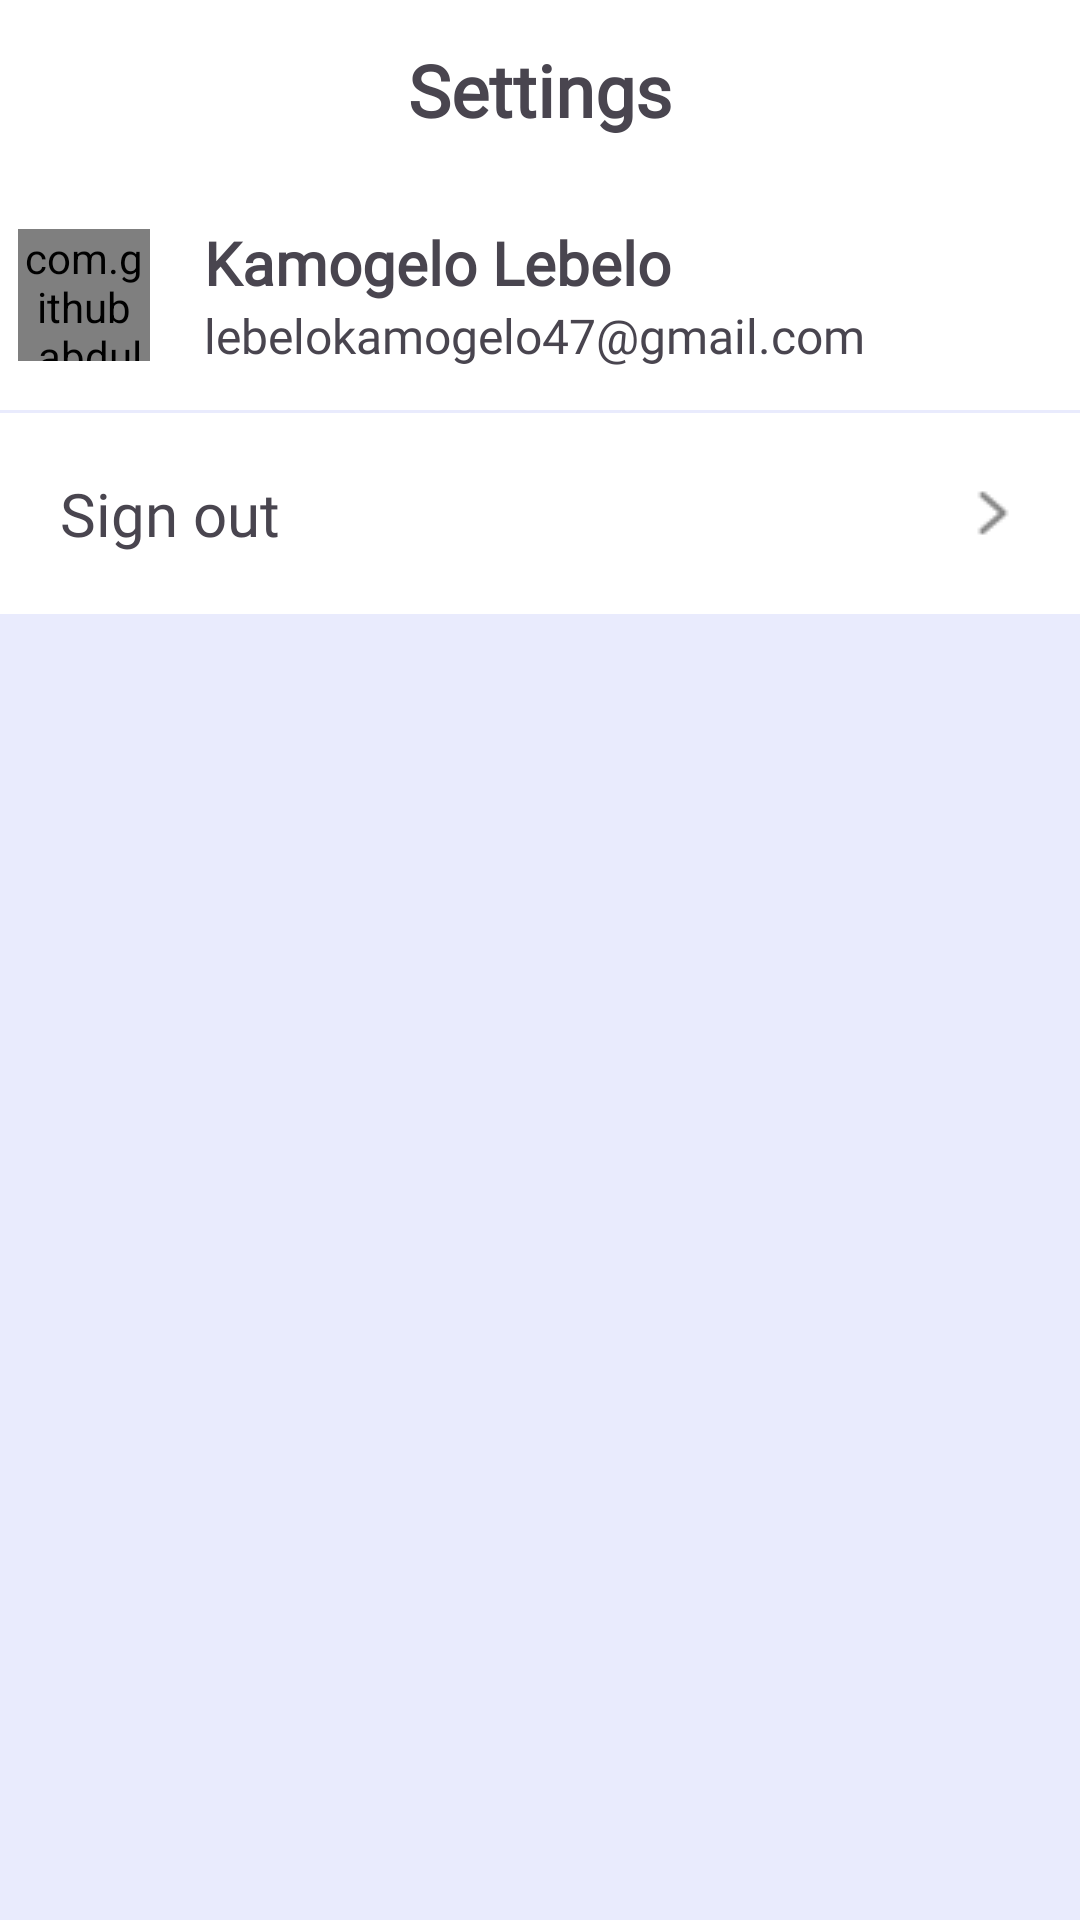

Point at icon controls on the screen. Image size 1080*1920, points as point (x, y).
next: point (993, 513)
